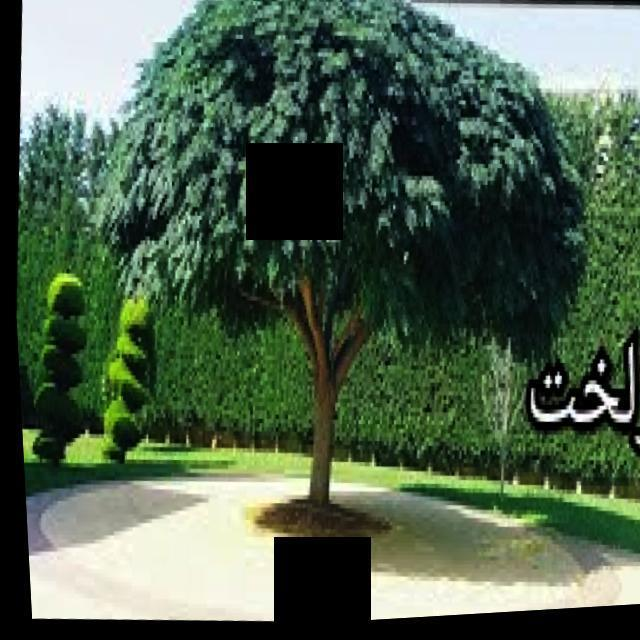tree: (72, 0, 613, 539), (16, 270, 94, 470), (88, 293, 161, 468)
